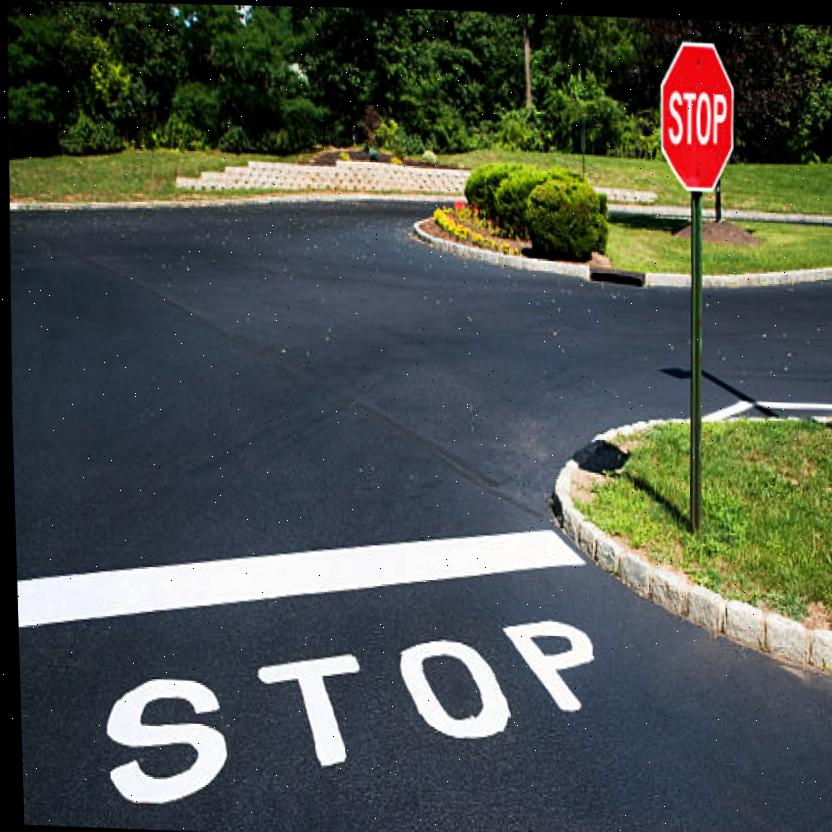Pole: (680, 186, 708, 527)
Sign: (657, 39, 737, 191)
